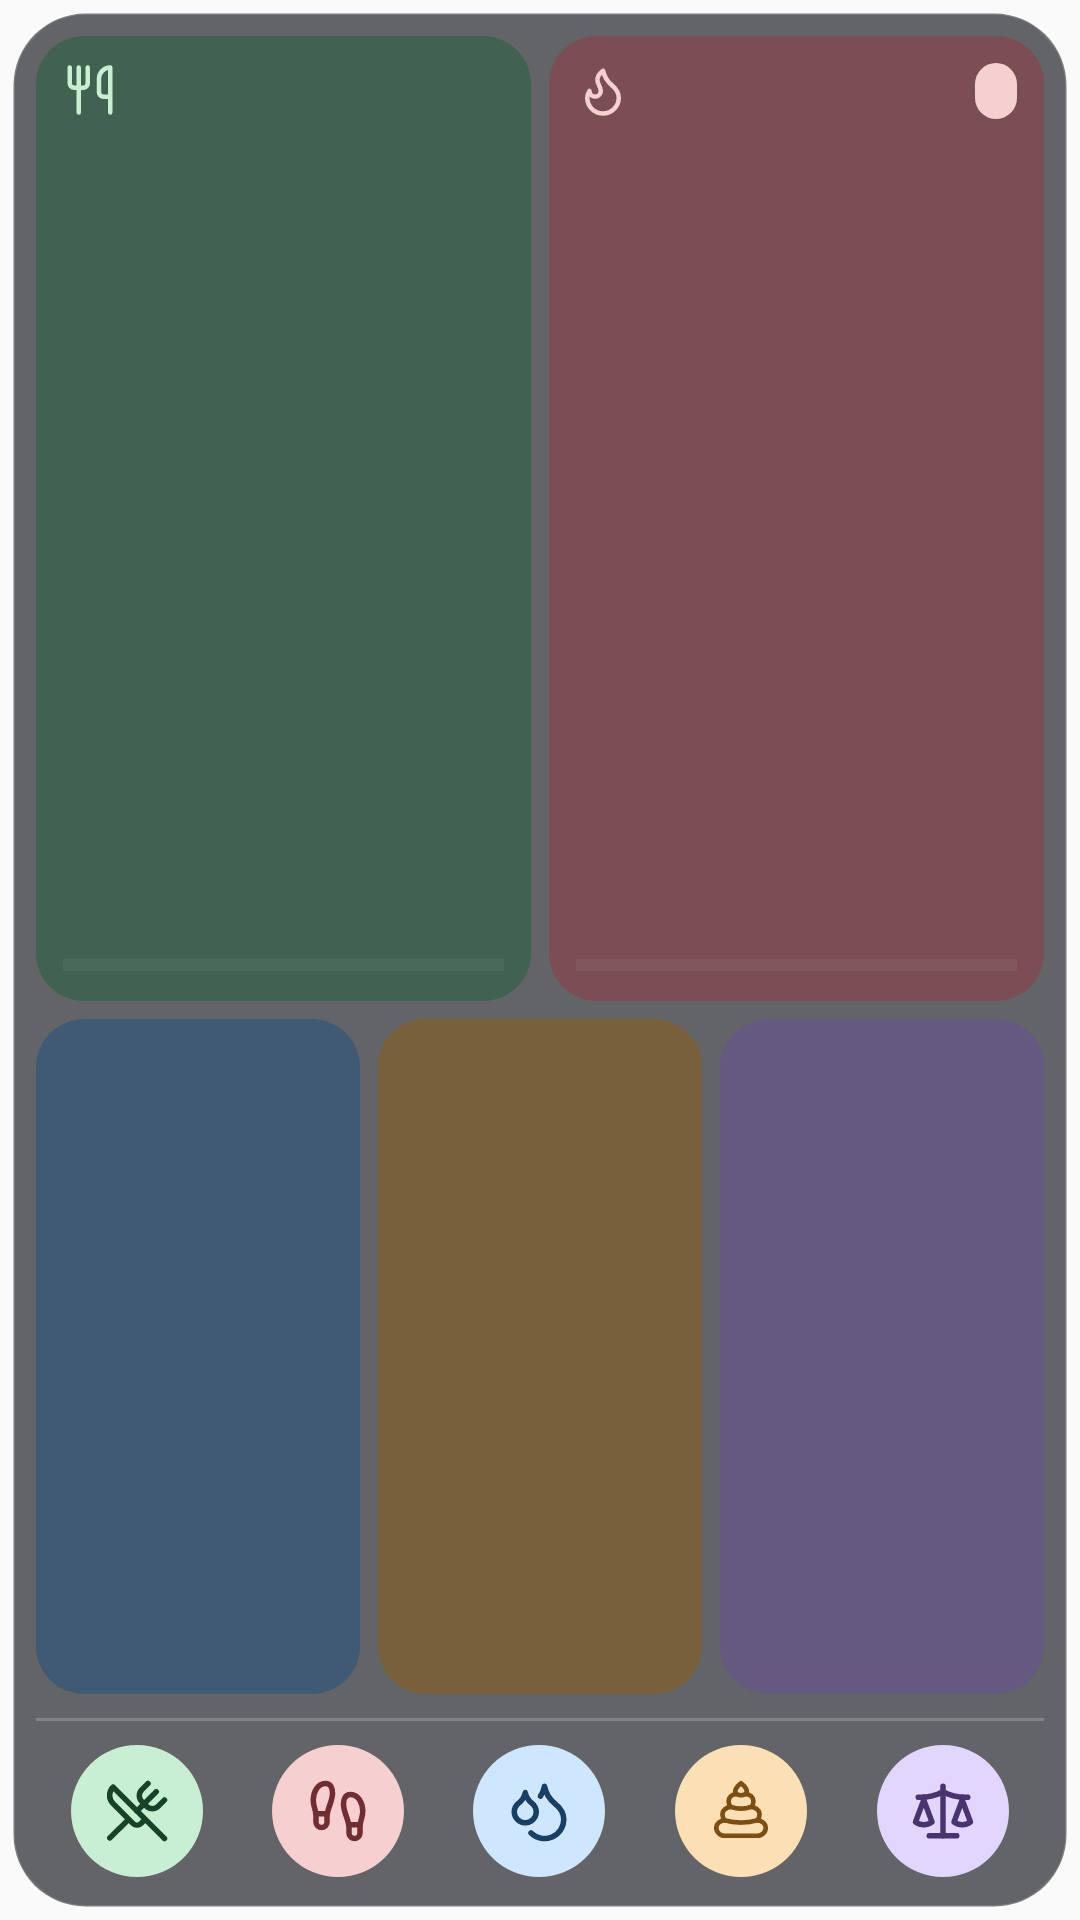

Icon click points for this 1080 × 1920 phone screenshot, format (x=x, y=y):
Food: (x=137, y=1811)
Movement: (x=338, y=1811)
Poop: (x=741, y=1811)
Water: (x=539, y=1811)
Weight: (x=943, y=1811)
widget burned: (x=603, y=92)
widget intake: (x=90, y=90)
